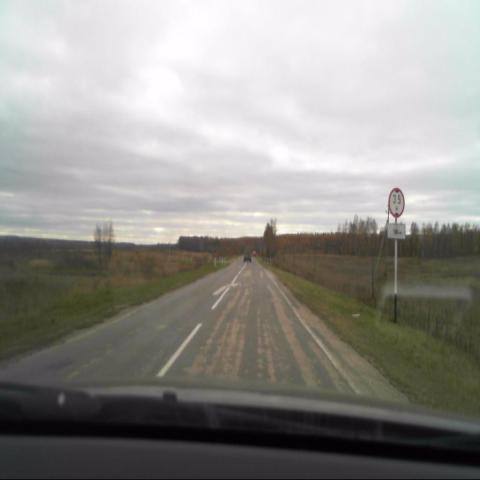3_13: (389, 189, 405, 217)
